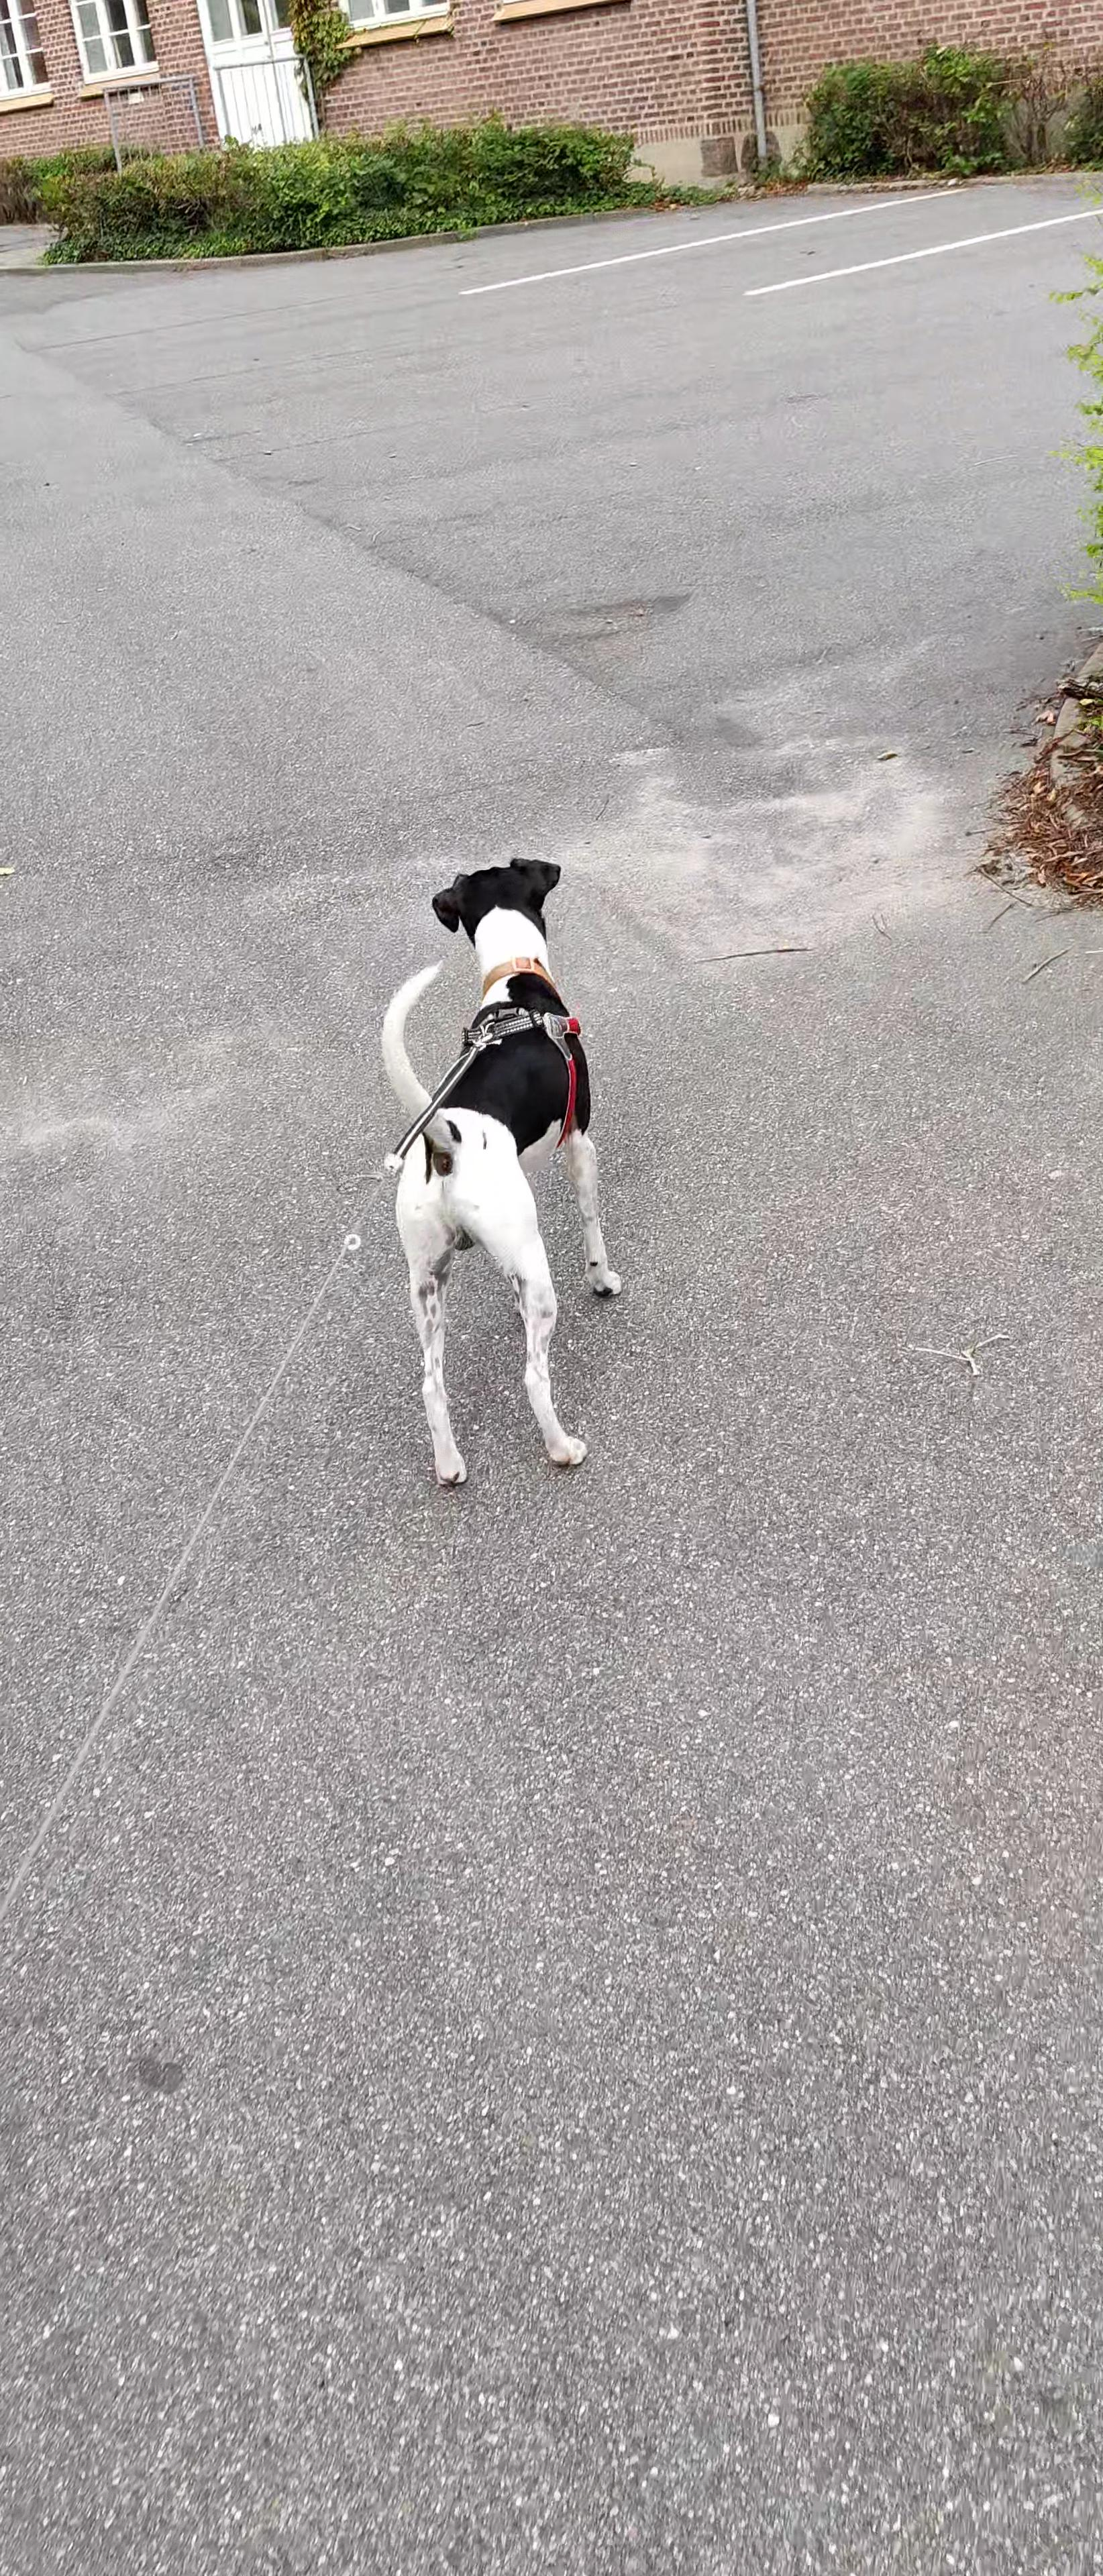Dog: (375, 853, 628, 1498)
